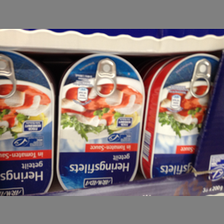fish: (56, 54, 145, 191), (144, 54, 219, 182), (1, 49, 54, 193)
